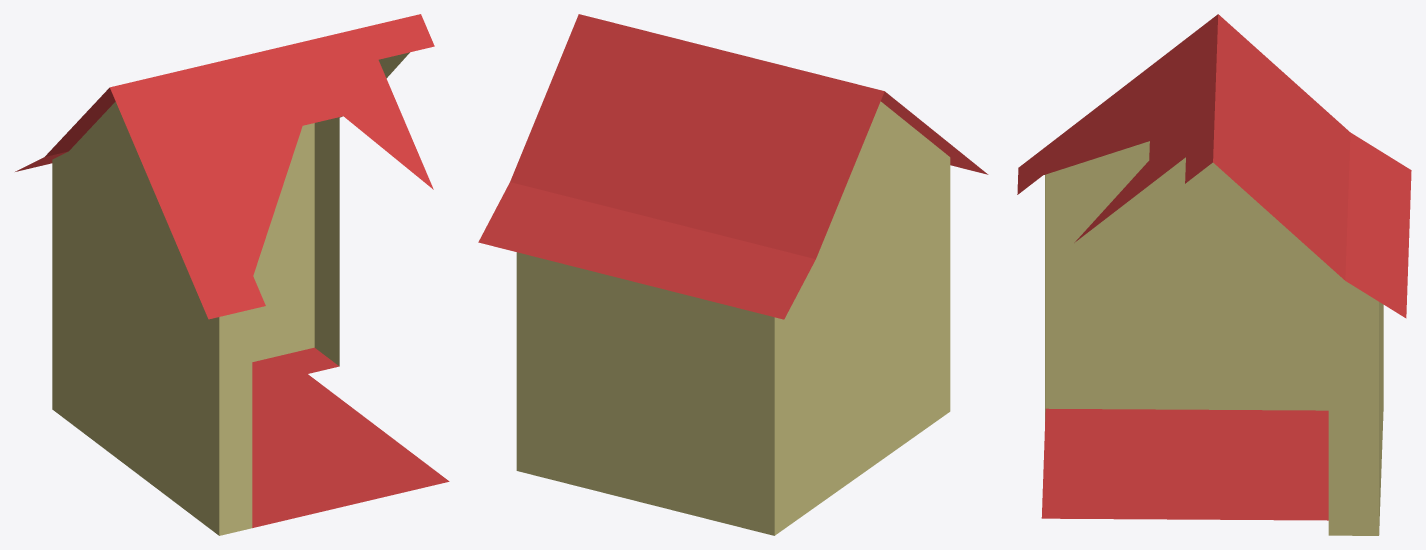
The picture shows the model from 3 angles, left to right: view 1: azimuth 30°, elevation 25°; view 2: azimuth 150°, elevation 25°; view 3: azimuth 270°, elevation 25°; orthographic projection.
Bounding box in the file's own units: 12.93 × 14.27 × 15.35.
